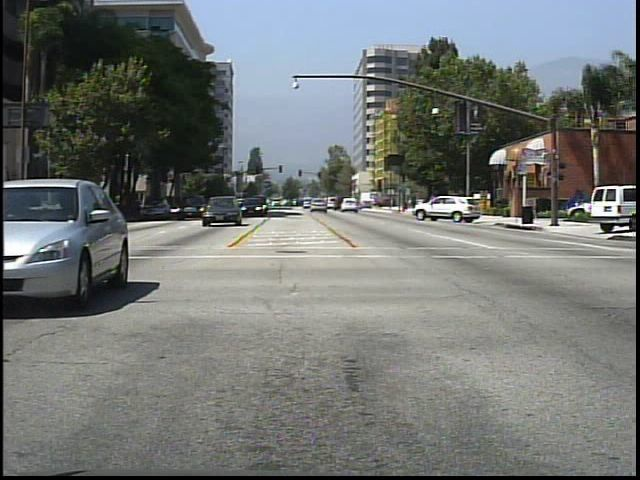person: (447, 188, 462, 220), (425, 188, 442, 214)
